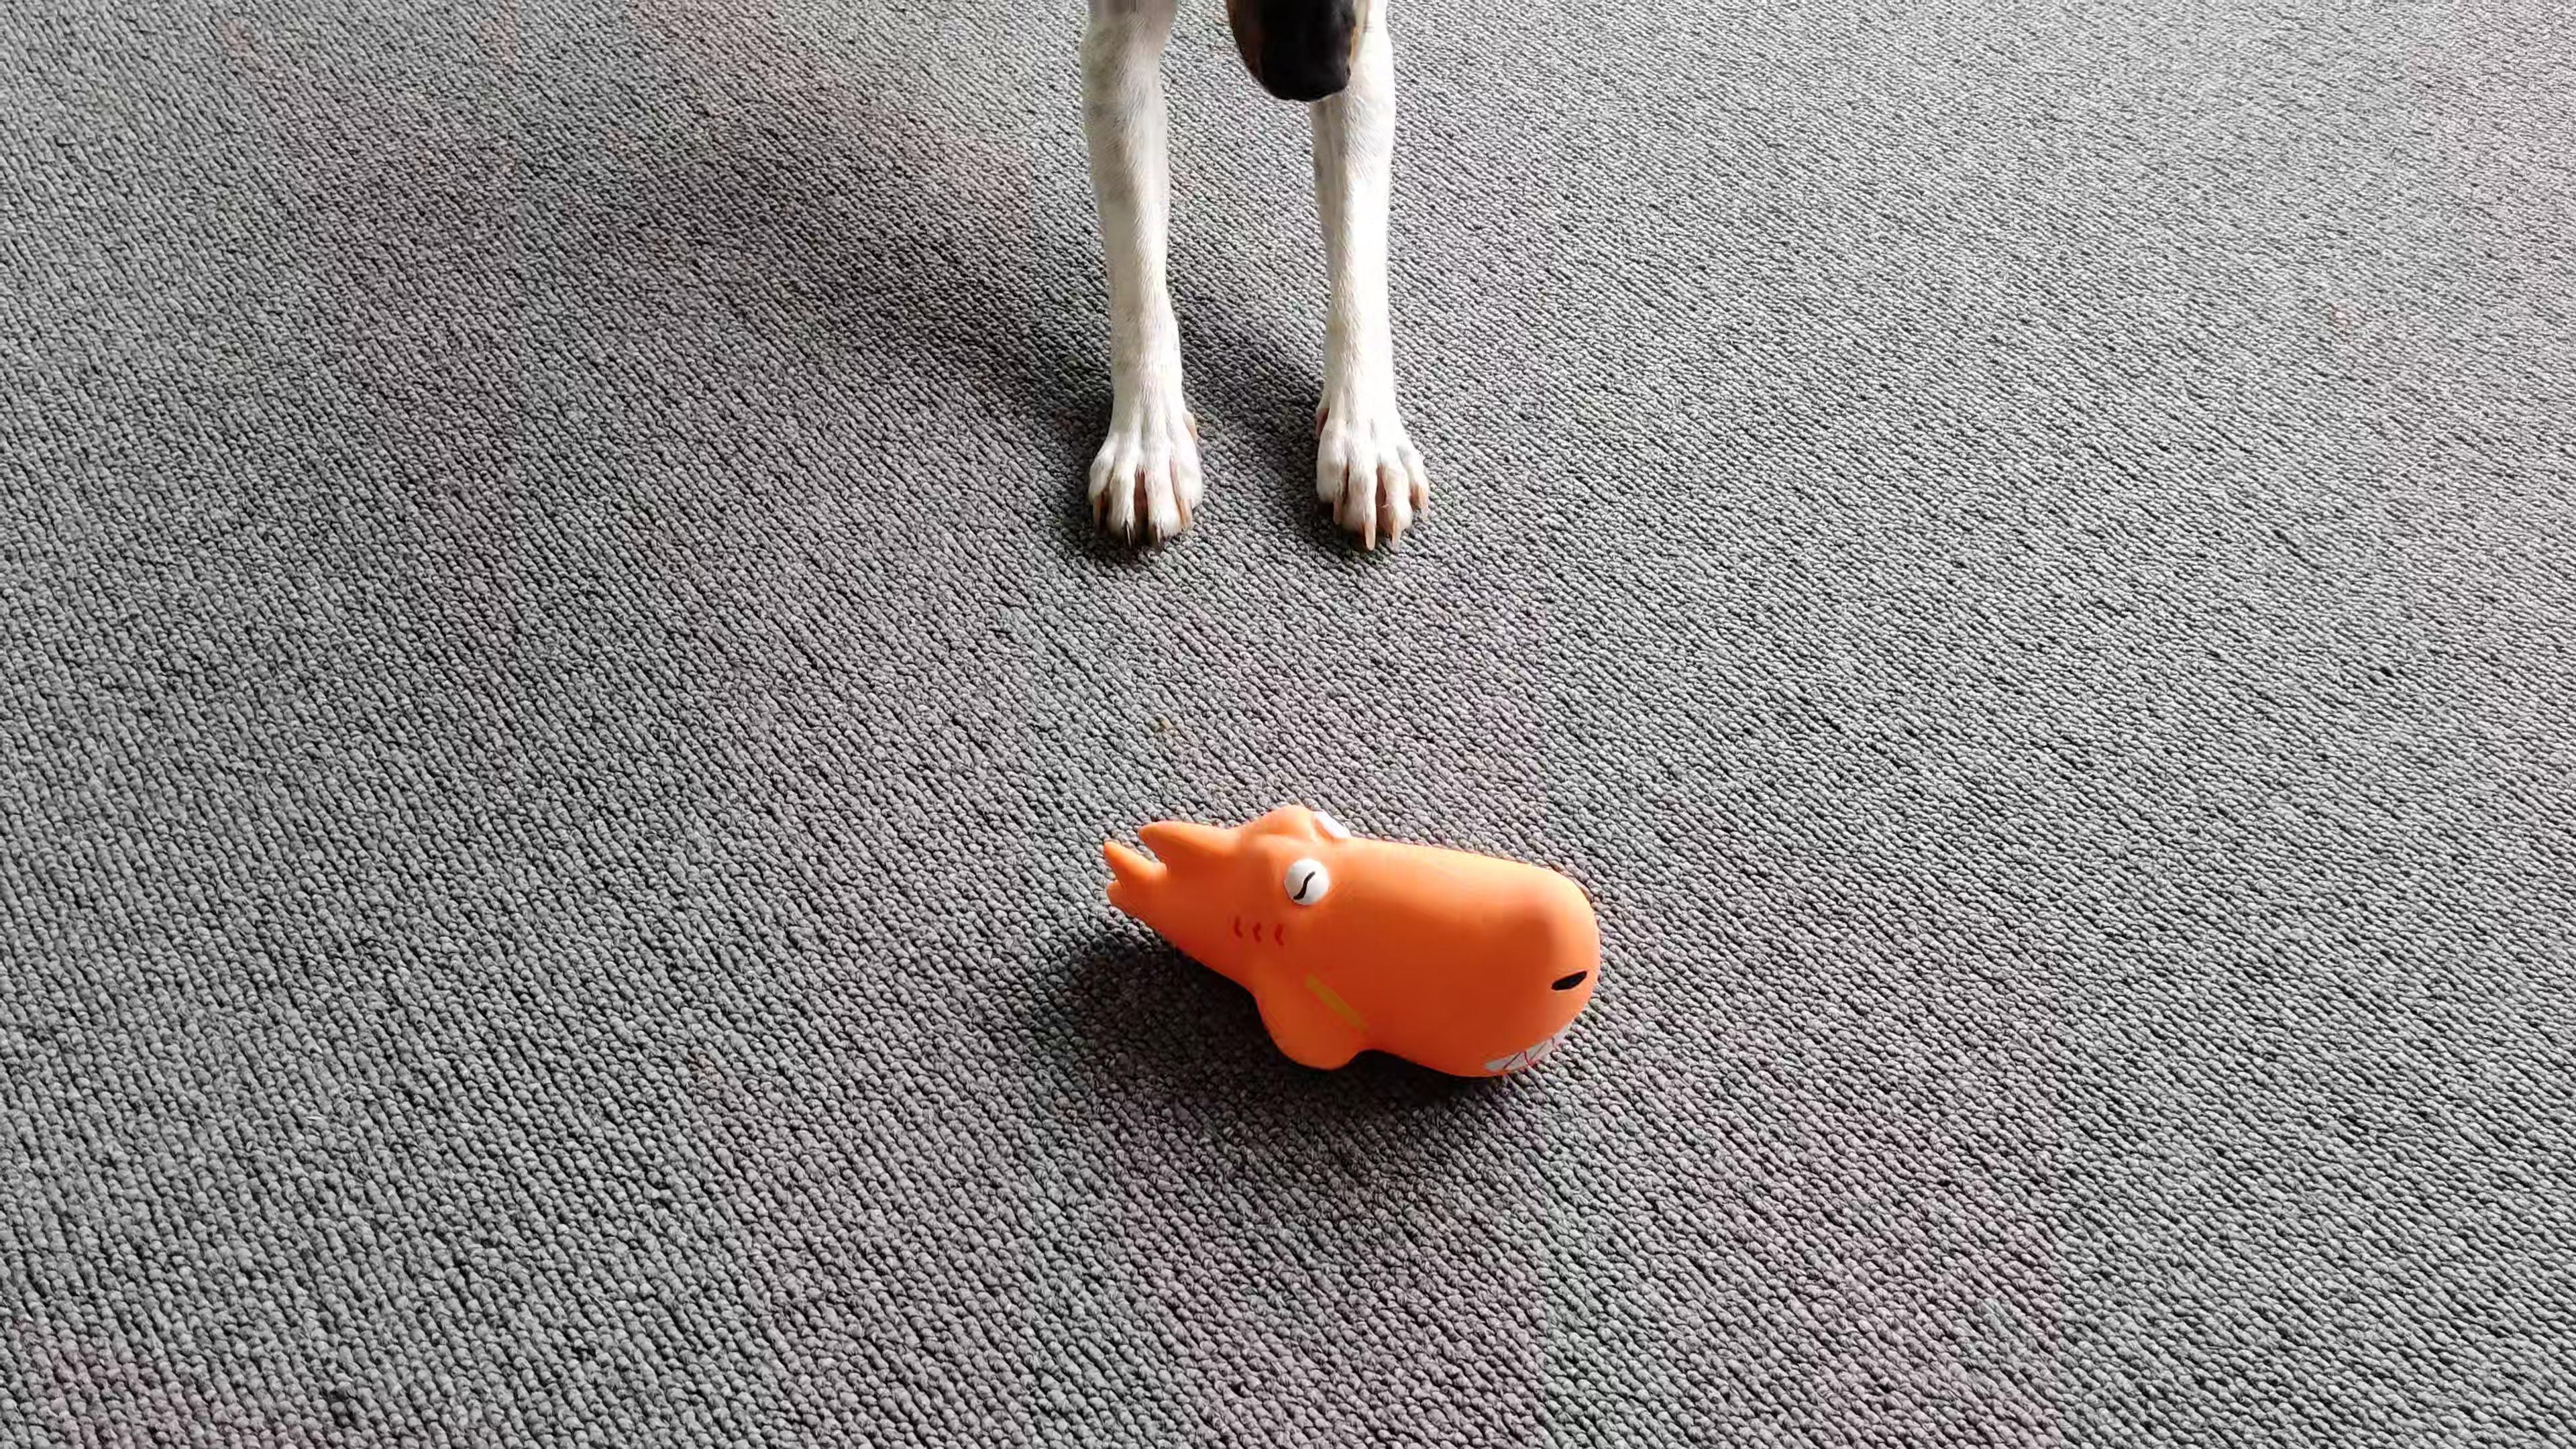Dog: (1060, 0, 1430, 577)
